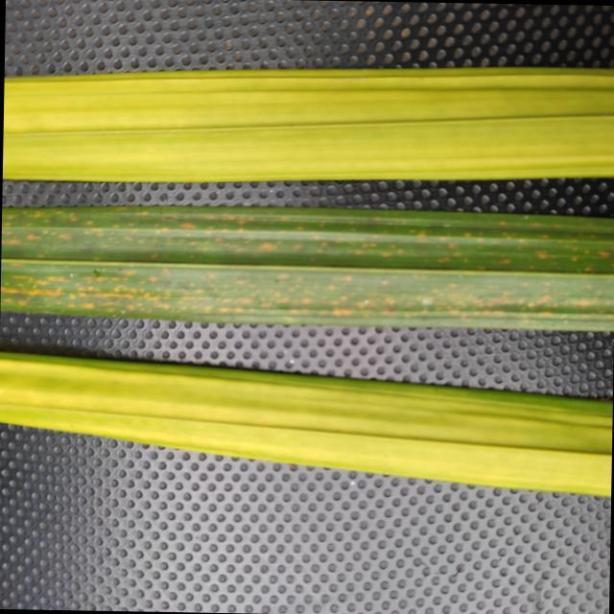nitrogen: (0, 334, 614, 494), (0, 206, 614, 334), (0, 66, 614, 189)
